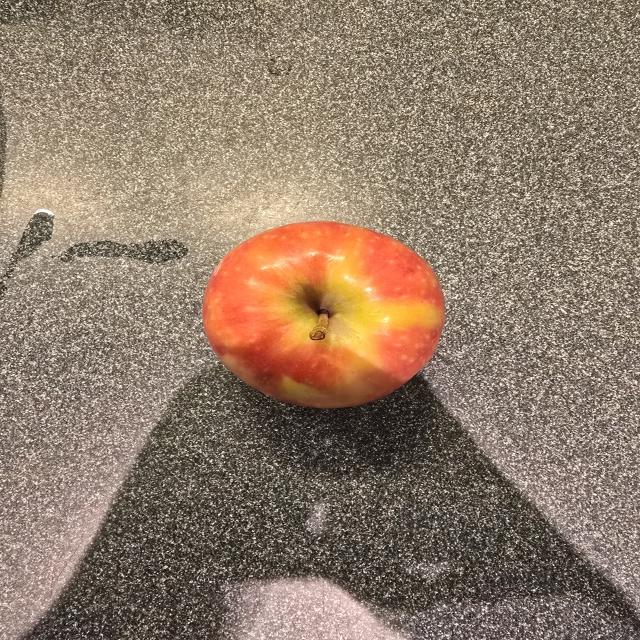Apple: (203, 222, 444, 408)
